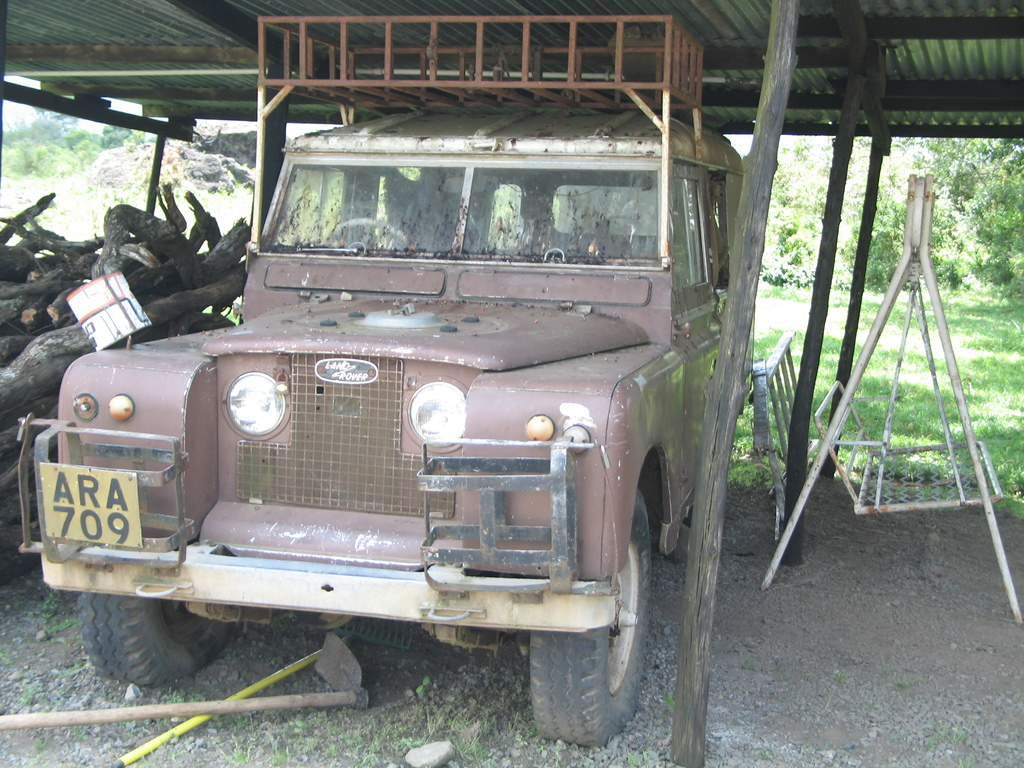Tree: (0, 105, 1024, 298)
